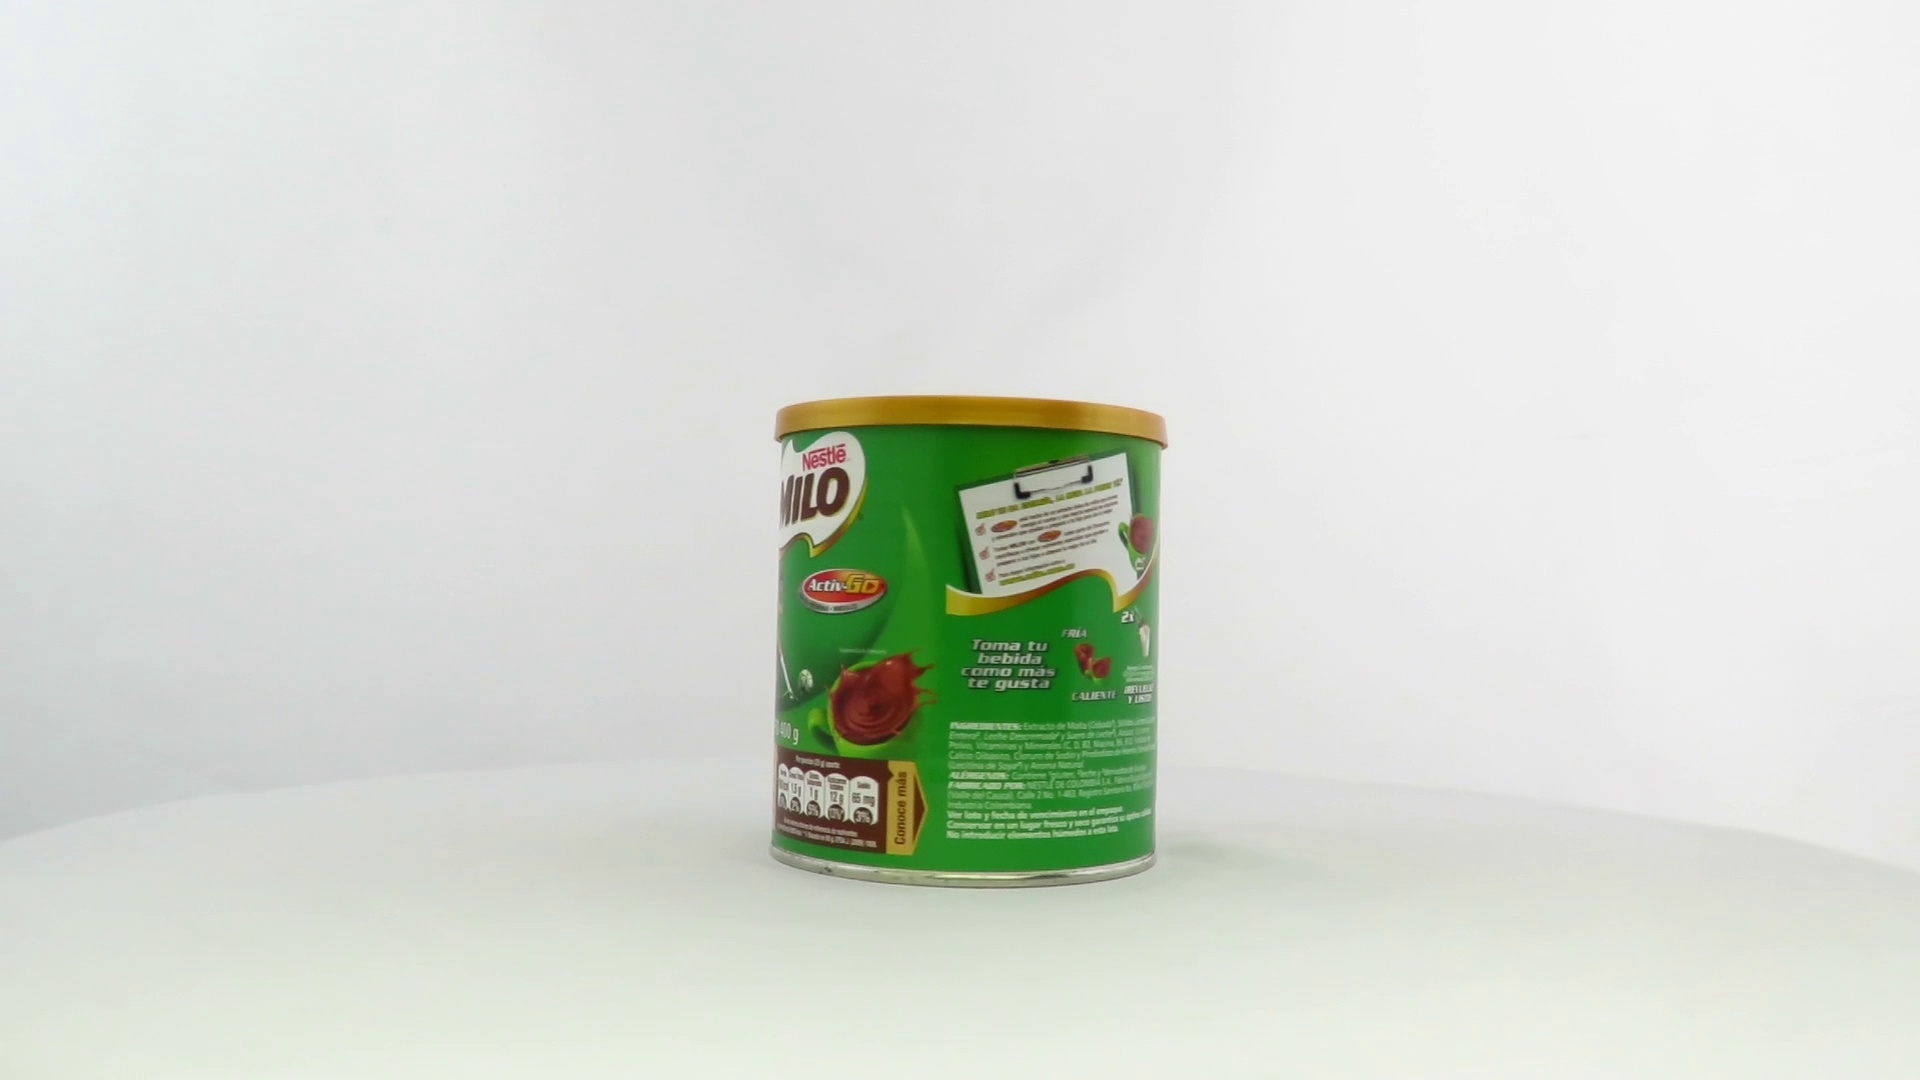COL0170203LAT40000: (764, 390, 1174, 895)
